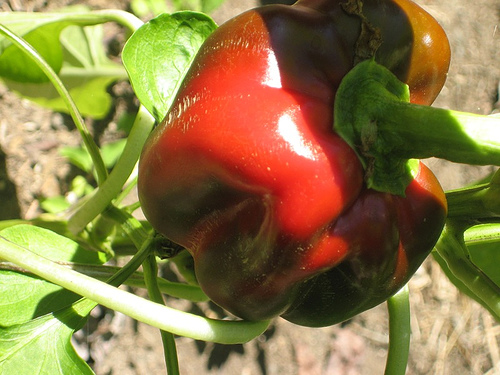capsicum: (136, 0, 499, 331)
